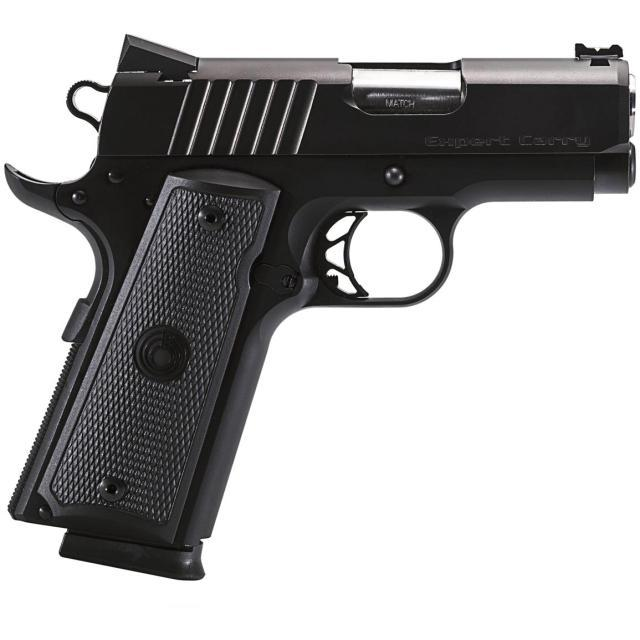Pistol: (14, 21, 637, 595)
